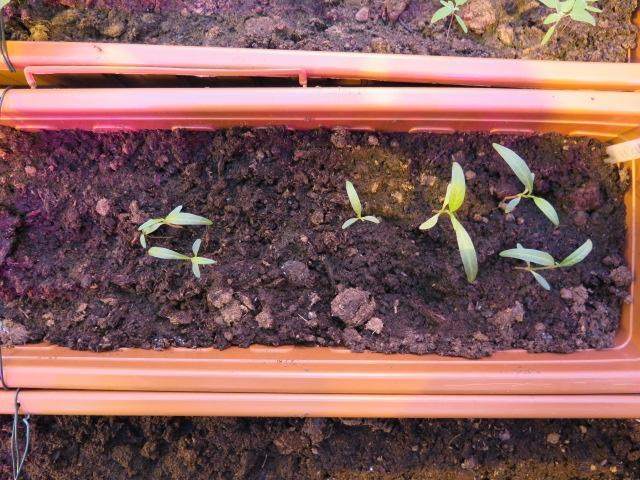weed: (337, 174, 381, 230)
